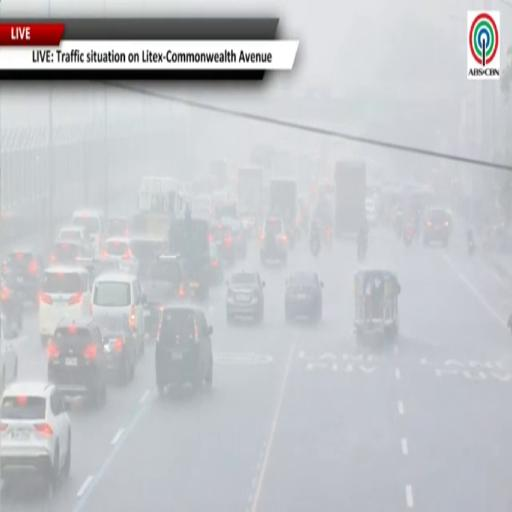car: (0, 382, 71, 493), (47, 318, 107, 405), (156, 306, 212, 396), (91, 272, 145, 355), (139, 255, 190, 340), (39, 266, 91, 346), (96, 316, 137, 385), (3, 251, 43, 303), (285, 271, 323, 322), (227, 271, 264, 323), (72, 210, 106, 257), (101, 237, 138, 274), (130, 236, 169, 271), (0, 272, 23, 330), (0, 318, 18, 391), (260, 216, 287, 264), (211, 219, 236, 264), (423, 208, 452, 246), (50, 239, 93, 264), (223, 219, 247, 258), (57, 226, 92, 249), (210, 244, 223, 284), (107, 216, 129, 236), (366, 198, 377, 226)
motorcycle: (403, 227, 414, 247), (310, 237, 320, 257), (357, 244, 366, 262), (325, 227, 332, 249), (467, 237, 475, 256)
truck: (169, 210, 210, 299), (131, 176, 184, 237), (334, 159, 366, 238), (269, 179, 297, 243), (237, 166, 263, 219), (210, 159, 227, 188)
